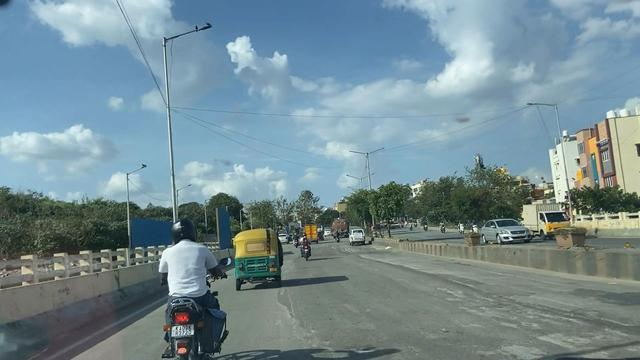RoadDamages: (427, 267, 640, 360), (270, 287, 325, 358)
